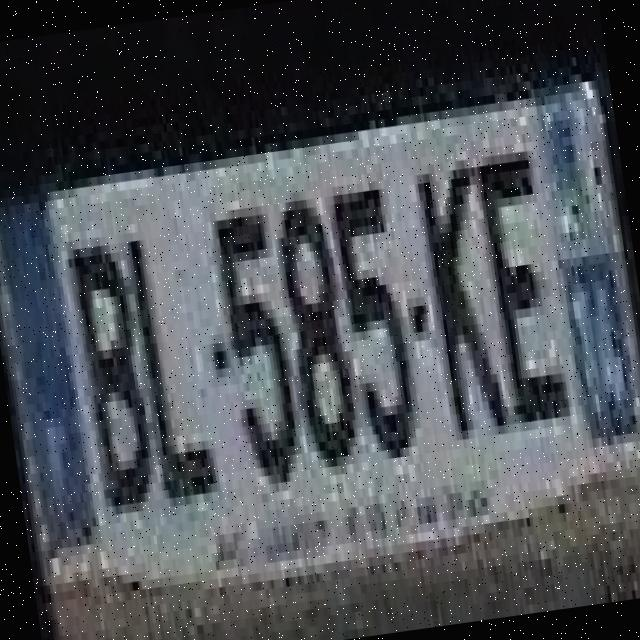EU: (0, 119, 640, 603)
France: (0, 200, 101, 574)
